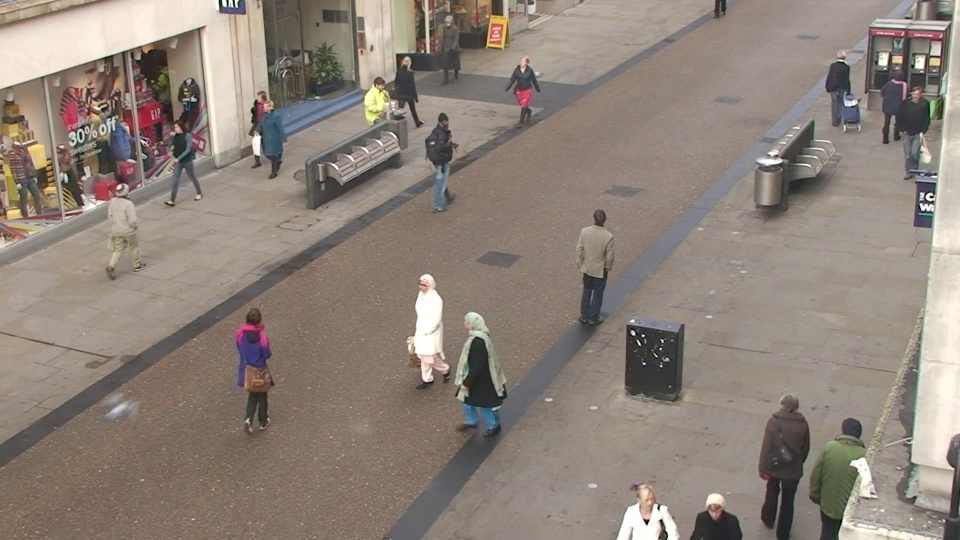pedestrian: (756, 381, 816, 540), (815, 405, 879, 540), (232, 298, 286, 440), (449, 304, 497, 449), (407, 266, 454, 401), (104, 178, 151, 288), (580, 204, 618, 325), (615, 470, 676, 540), (681, 477, 745, 540), (893, 83, 936, 175), (165, 117, 204, 210), (873, 69, 913, 157), (428, 110, 461, 205), (254, 95, 288, 183), (247, 87, 280, 173), (823, 48, 856, 129), (366, 76, 397, 160), (392, 54, 421, 131), (512, 53, 539, 131), (437, 15, 462, 82)
